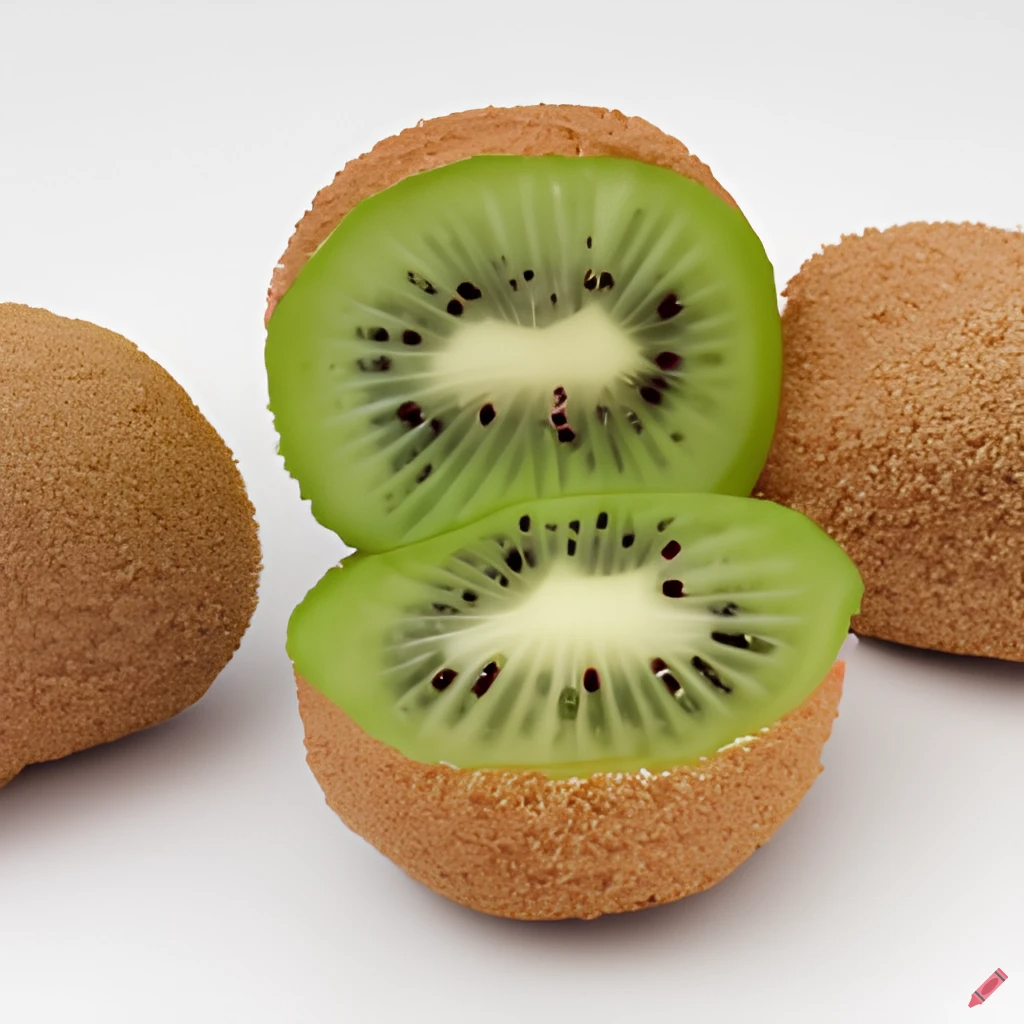Kiwi: (287, 467, 873, 970), (710, 168, 1024, 684), (0, 279, 288, 826)
